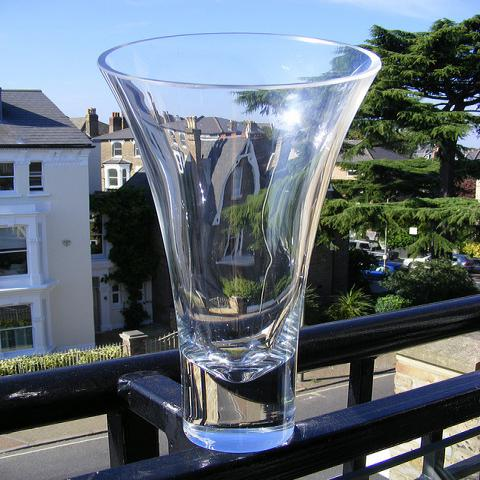car: (403, 252, 474, 272), (348, 238, 400, 260), (360, 261, 410, 280)
